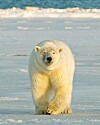PolarBear: (25, 36, 81, 117)
